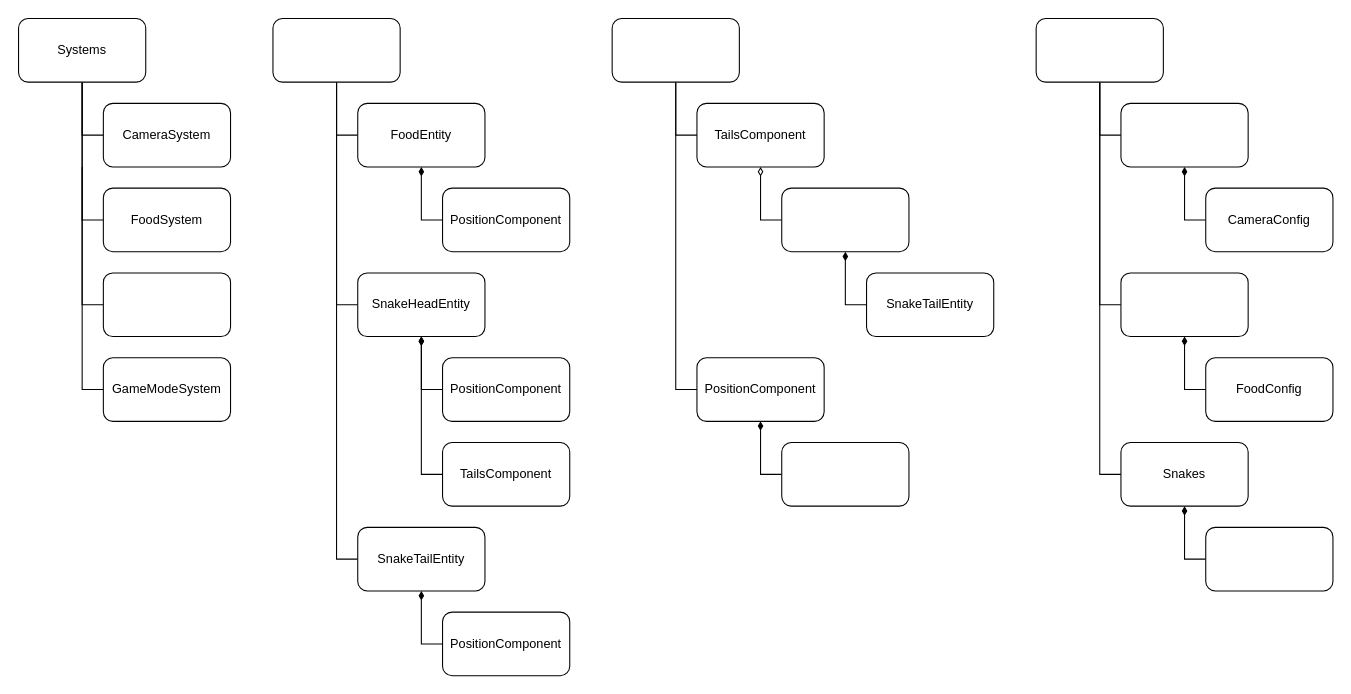
This 1351x694 diagram has some shape labels left out. Here are the shapes that lost their labels. From the top down, the centre of each, then its label:
At point (336, 49): "Entities".
At point (675, 49): "Components".
At point (1099, 49): "Factories".
At point (1184, 134): "Cameras".
At point (845, 219): "List".
At point (166, 304): "SnakeSystem".
At point (1184, 304): "Foods".
At point (845, 473): "Vector3".
At point (1269, 558): "SnakeConfig".
